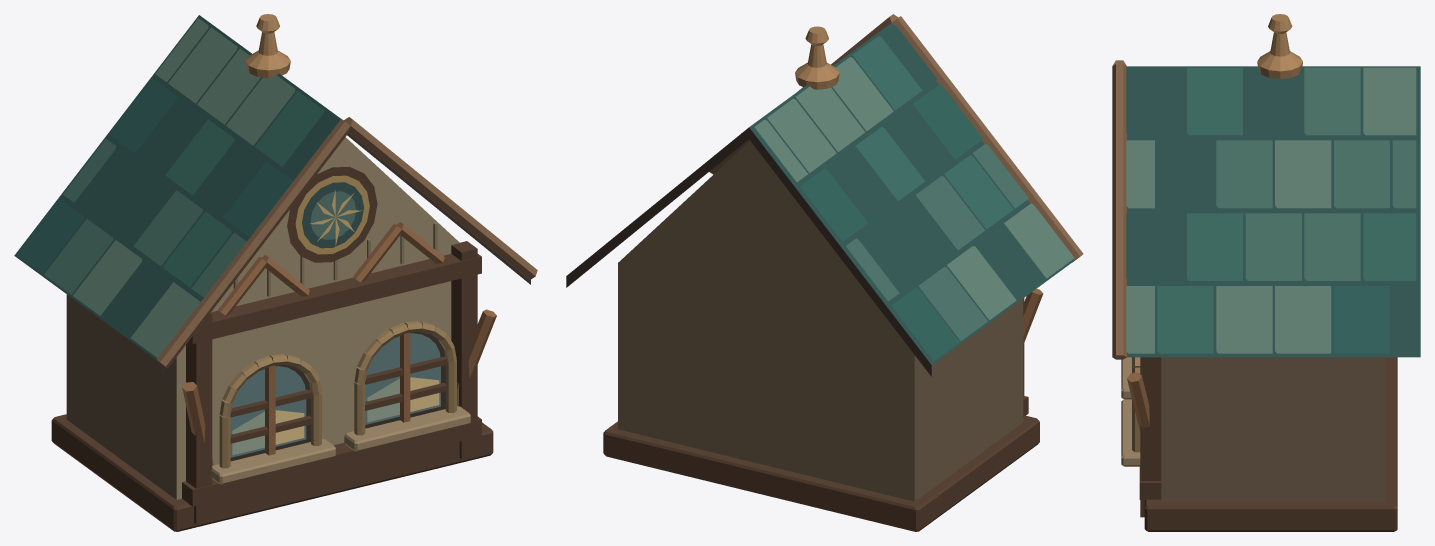
Rendered from gable_sail_loft.glb.
3 views of the same model, side by side, from view 1: azimuth 30°, elevation 25°; view 2: azimuth 150°, elevation 25°; view 3: azimuth 270°, elevation 25° (orthographic). The views are drawn at different scales.
Visible parts, largest first — view 1: gable_sail_loft; view 2: gable_sail_loft; view 3: gable_sail_loft.
Boxes of the visible parts, x1=… form: gable_sail_loft: x1=14, y1=14, x2=537, y2=531; gable_sail_loft: x1=566, y1=14, x2=1083, y2=531; gable_sail_loft: x1=1112, y1=14, x2=1420, y2=531.
Size of the model in its own units: 1.74 by 1.88 by 1.21.
